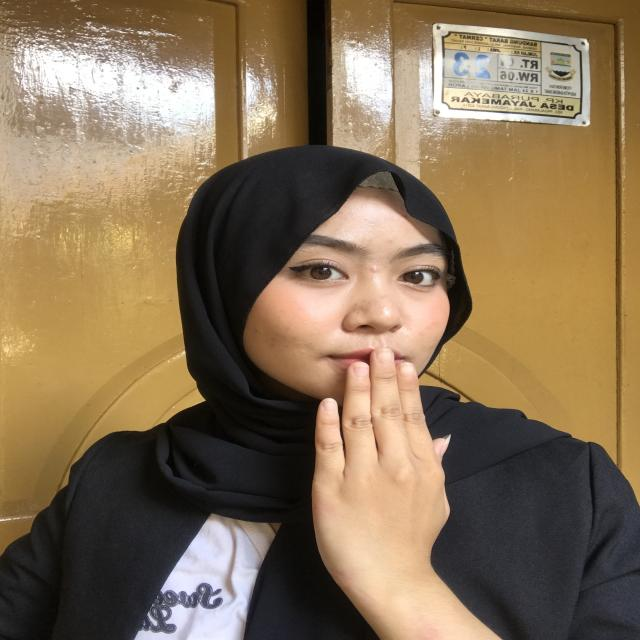ganteng: (287, 340, 472, 640)
